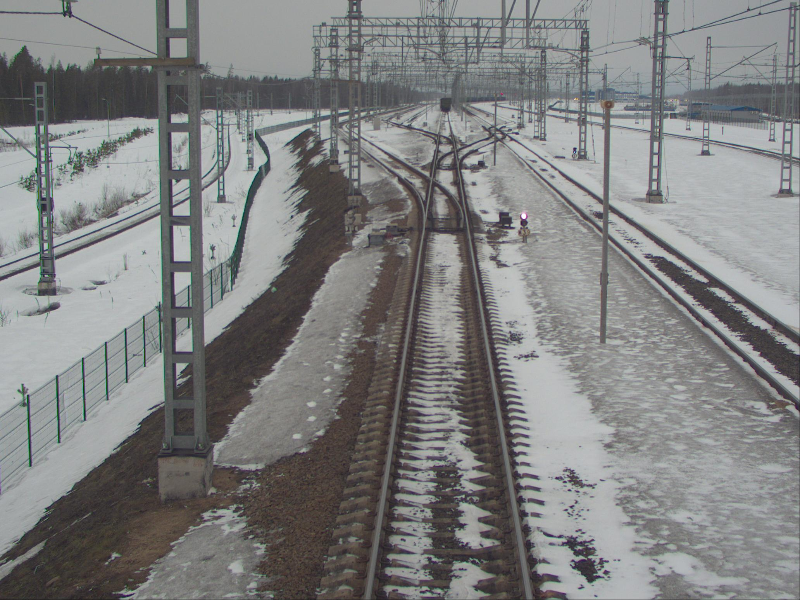left: (434, 150, 461, 168)
right: (423, 176, 472, 231)
